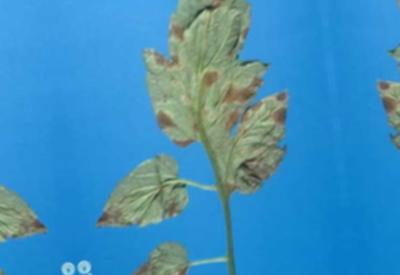Tomato mold leaf: (128, 0, 309, 206), (89, 151, 198, 246), (112, 239, 196, 275)
